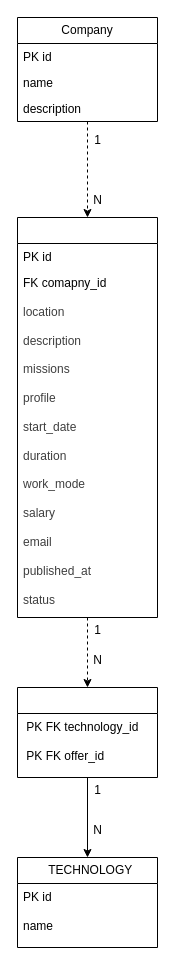
The diagram is 175 pixels wide and 968 high, and some of its shapes have lost their labels. Each missing label, with the box of its shape:
Offer: (16, 216, 158, 618)
OFFRE_TECHNOLOGIE: (16, 686, 158, 778)
